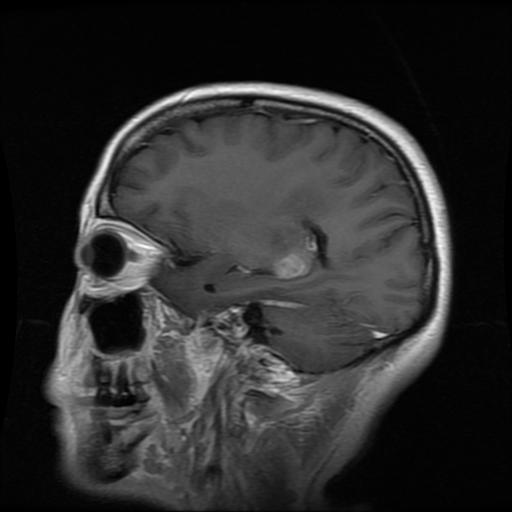Gliomia_tumour: (172, 186, 327, 277)
